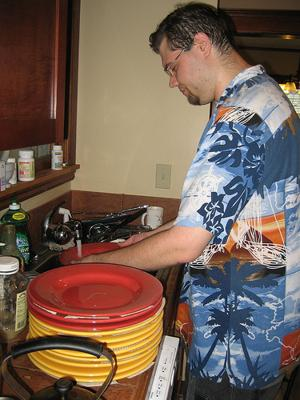person: (71, 1, 300, 398)
